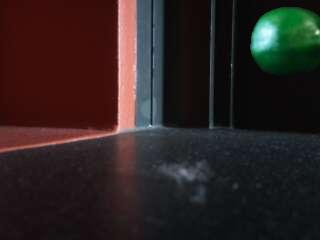Lime: (249, 7, 320, 77)
